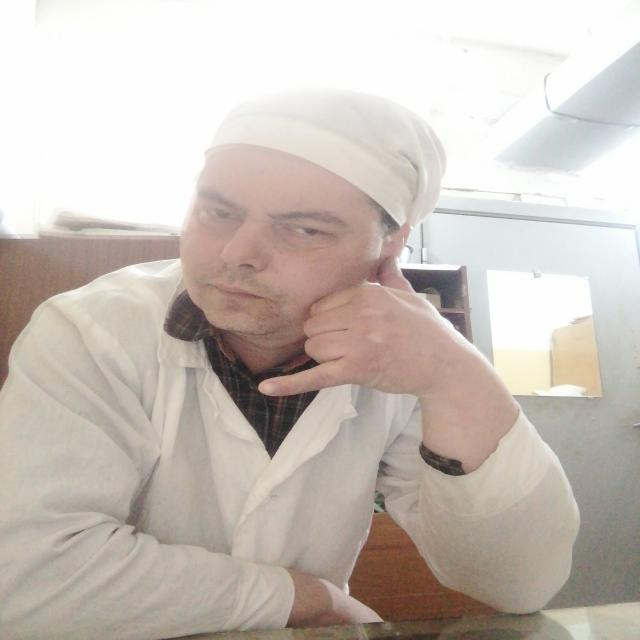call: (253, 254, 467, 400)
